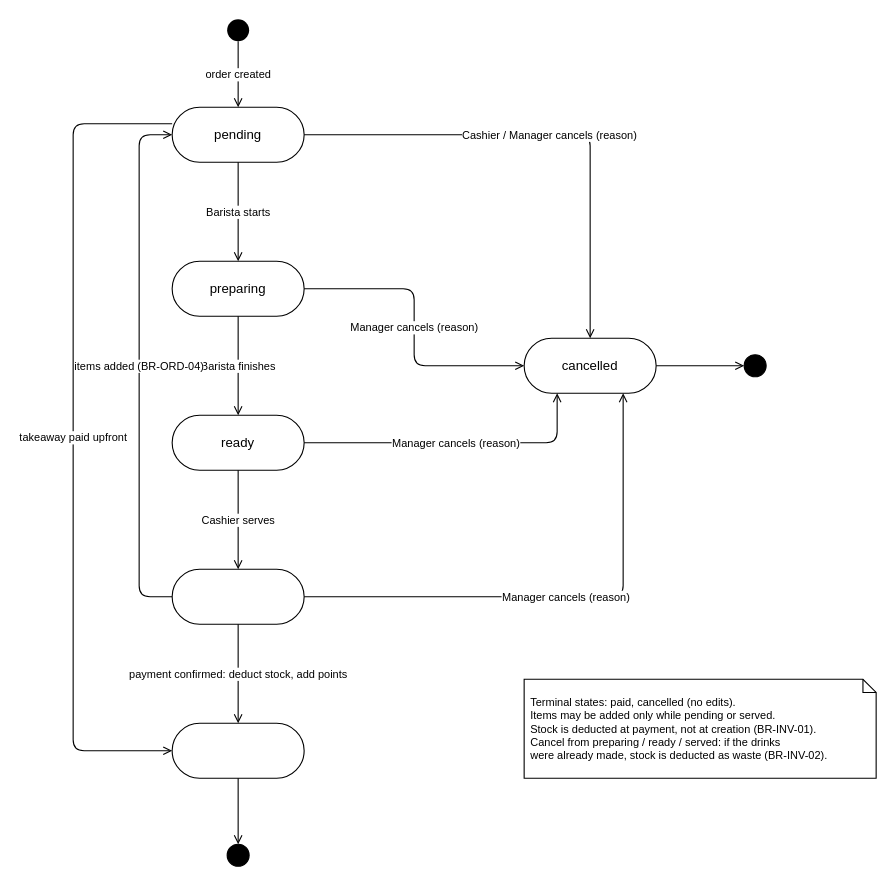
The diagram is 895 pixels wide and 886 high, and some of its shapes have lost their labels. The centre of each missing label's shape, as x and y in pixels:
"paid" goes at (237,750).
"served" goes at (237,596).
